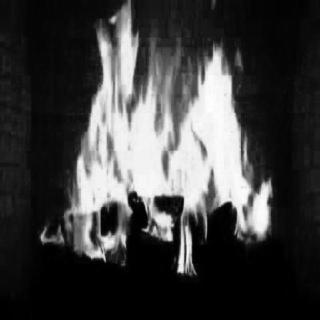Fire: (39, 2, 287, 276)
